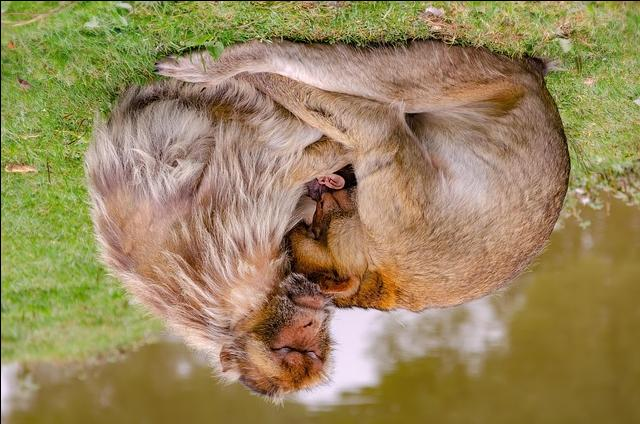Non_Gorille: (0, 16, 639, 424)
